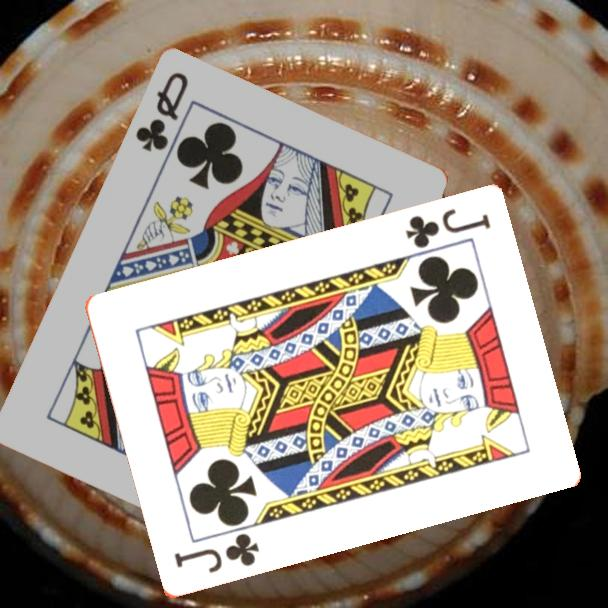c11: (401, 205, 494, 252), (170, 530, 262, 577)
c12: (132, 69, 192, 156)
